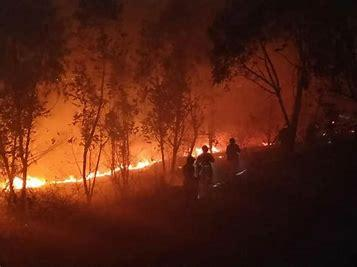smoke: (79, 153, 166, 179), (1, 171, 102, 191), (182, 142, 226, 158)
